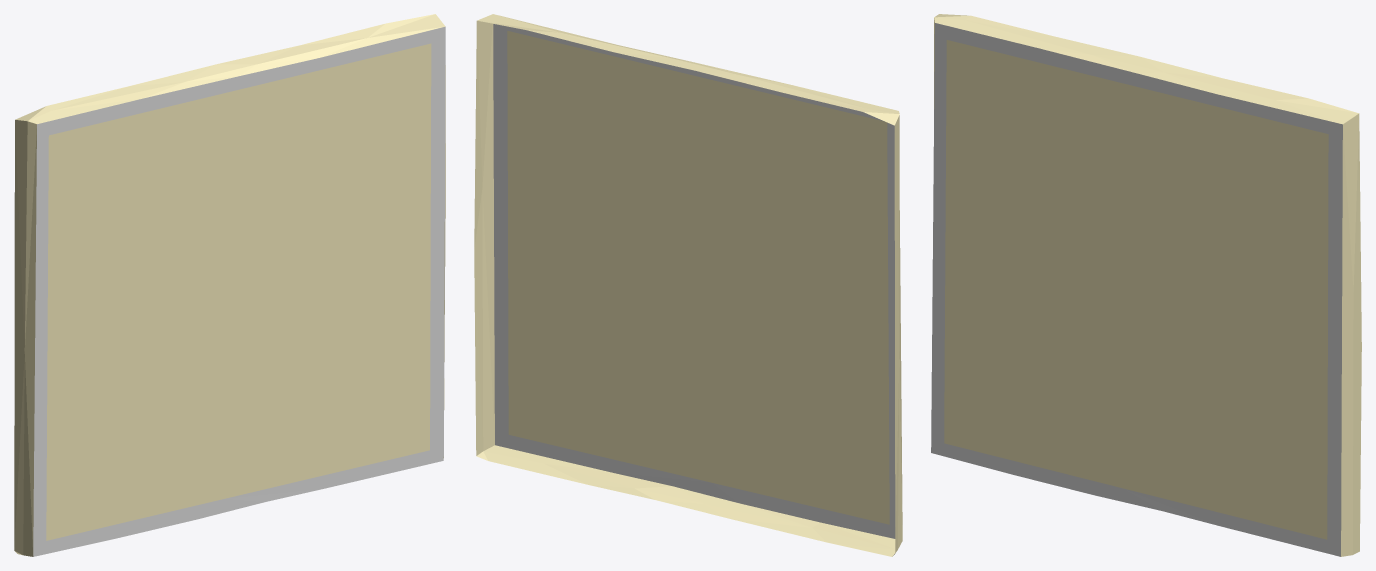
The model's file is ui_button_slim_1x1_bordered.glb.
3 views of the same model, side by side, from view 1: azimuth 30°, elevation 25°; view 2: azimuth 150°, elevation 25°; view 3: azimuth 330°, elevation 25° (orthographic).
Visible parts, largest first — view 1: Cube; view 2: Cube; view 3: Cube.
Boxes of the visible parts, <box> form: Cube: <box>14,14,445,556</box>; Cube: <box>474,14,902,556</box>; Cube: <box>931,14,1361,556</box>.
Bounding box in the file's own units: 1.99 × 1.99 × 0.1075.
